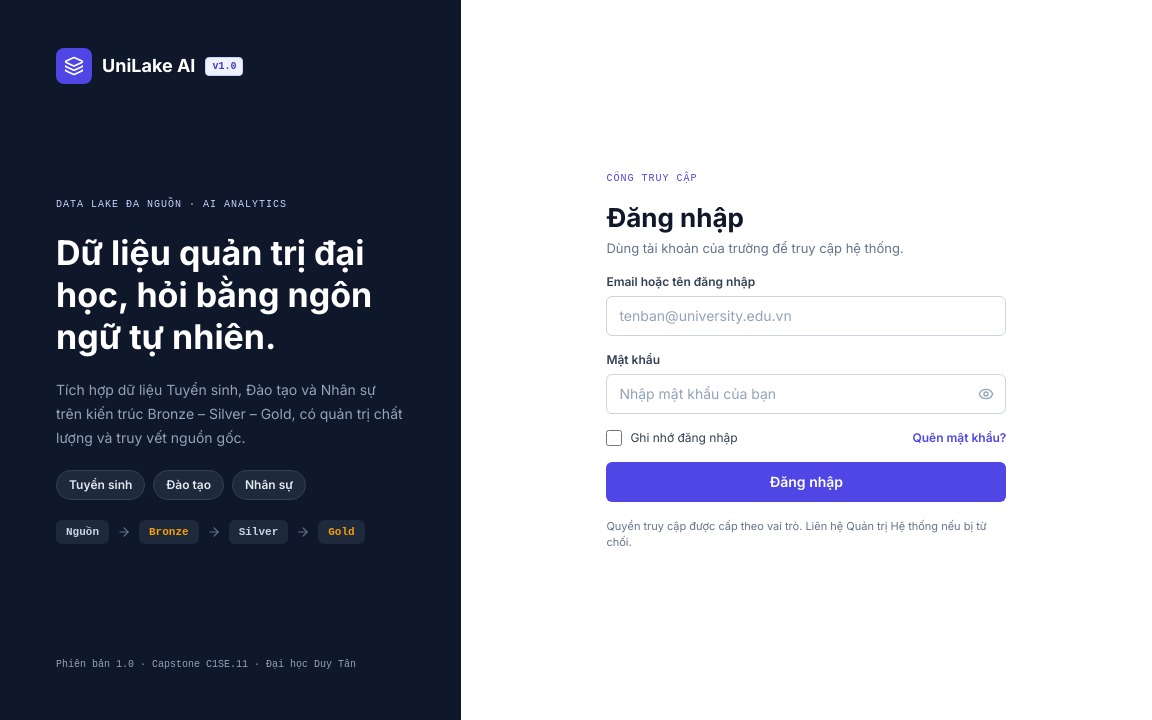
Test: LoginView › đóng được thông báo lỗi
Type "admin" into the field labelled "Email hoặc tên đăng nhập" at (806, 316), box [606,296,1006,336]
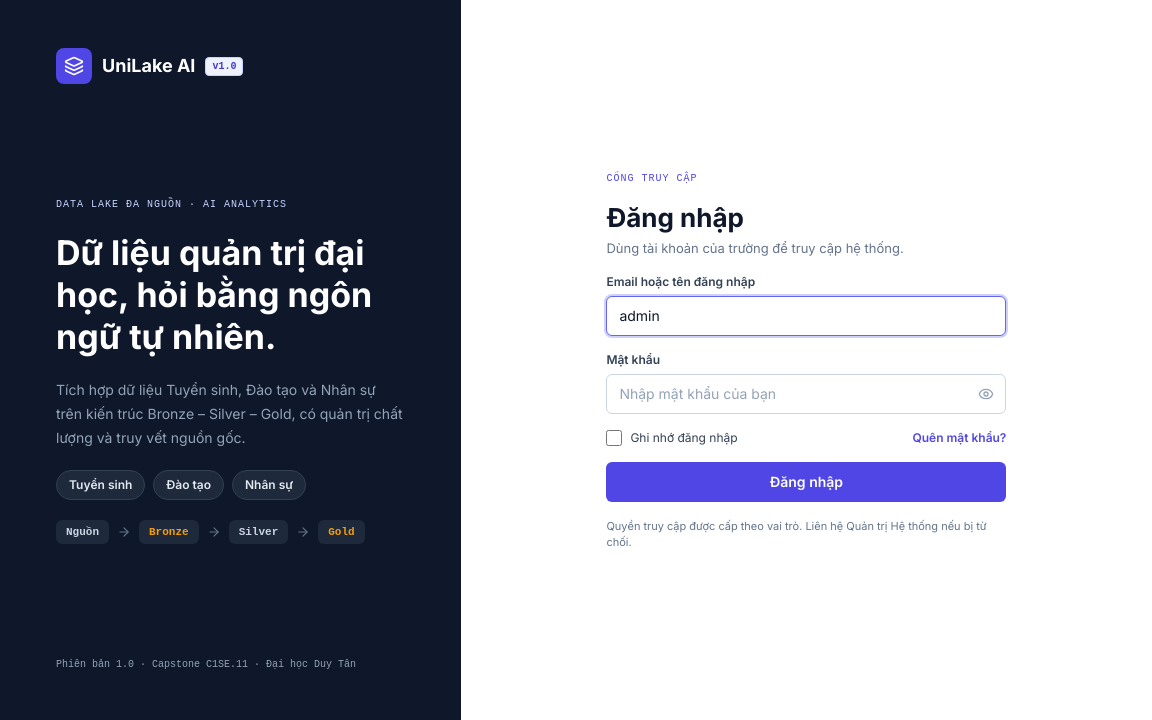
Type "Password@123" into the password field labelled "Mật khẩu" at (806, 394), box [606,374,1006,414]
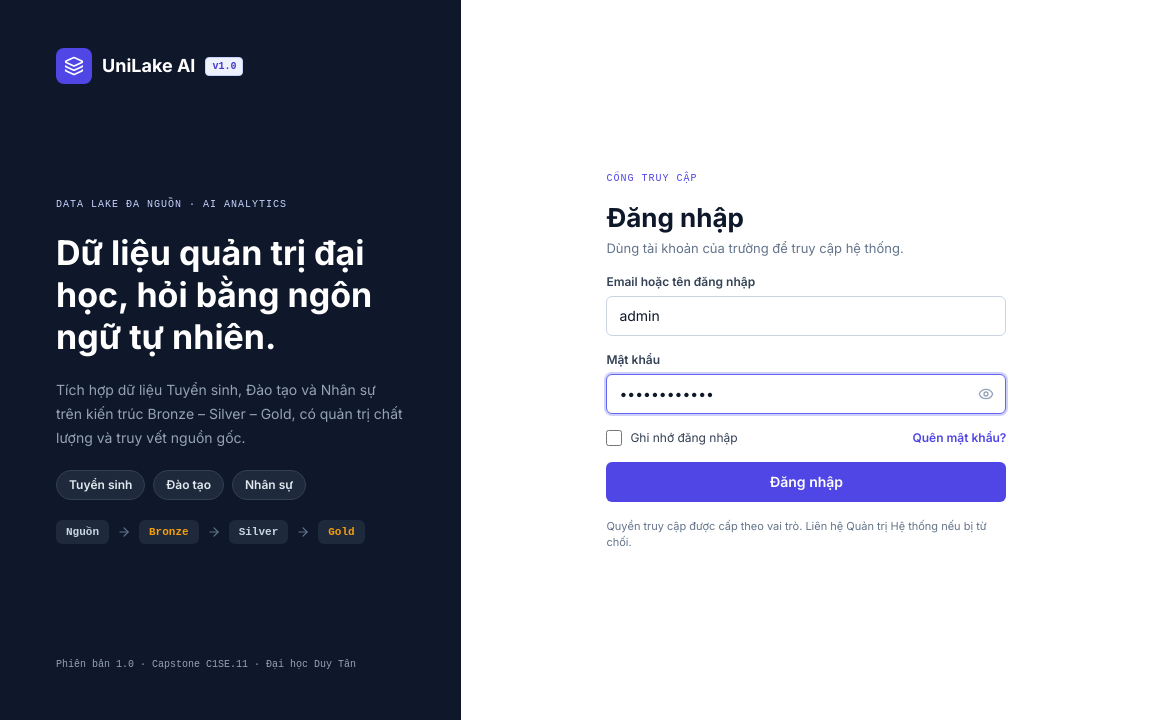
Click the button "Đăng nhập" at (806, 482), box [606,462,1006,502]
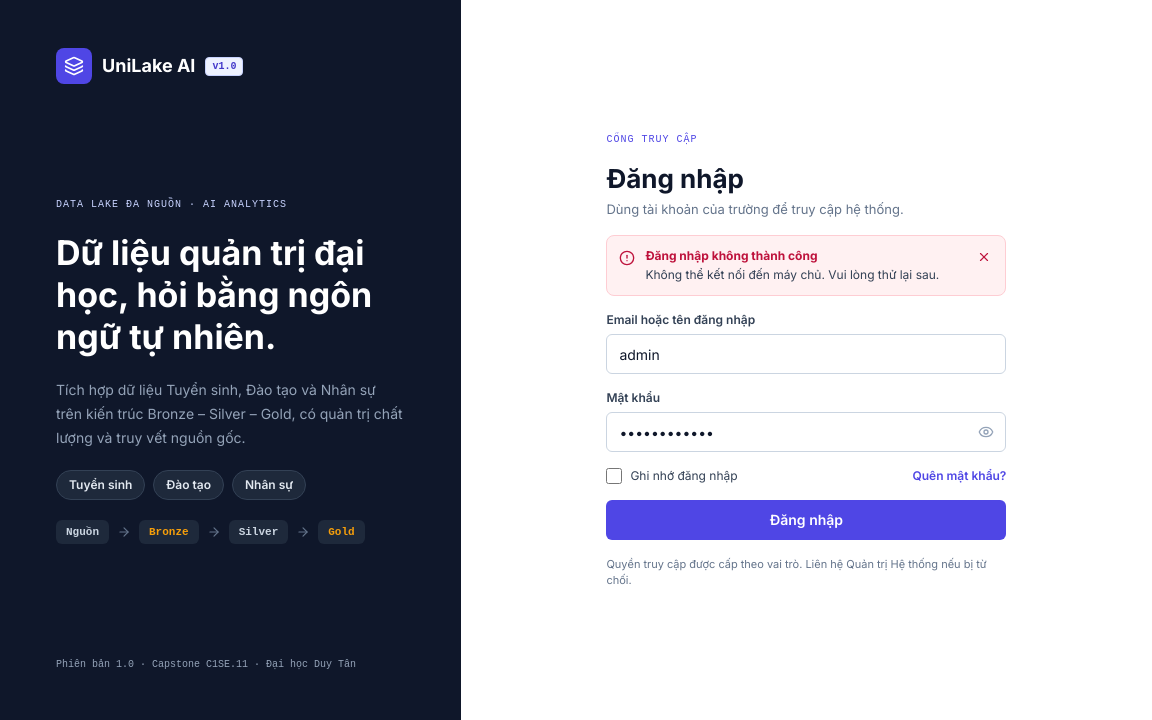
Click the button named "Đóng thông báo lỗi" at (984, 257), box [975,248,993,266]
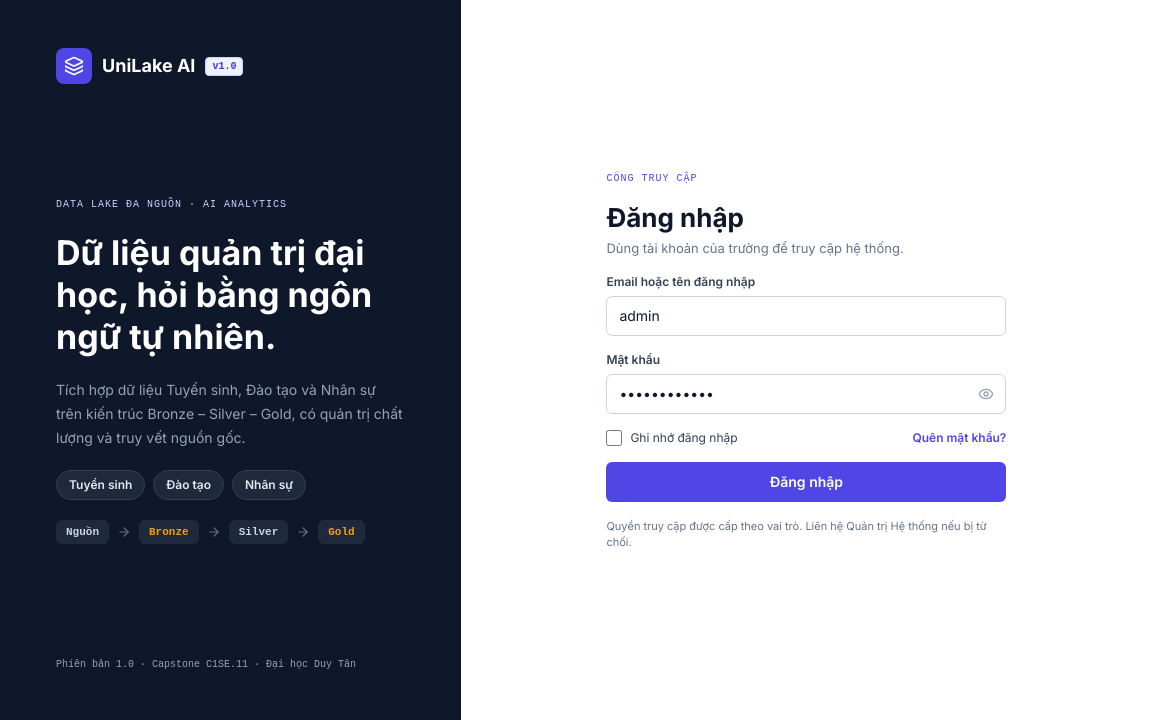
Check: the message "Đăng nhập không thành công Không thể kết nối đến máy chủ. Vui lòng thử lại sau." is gone
